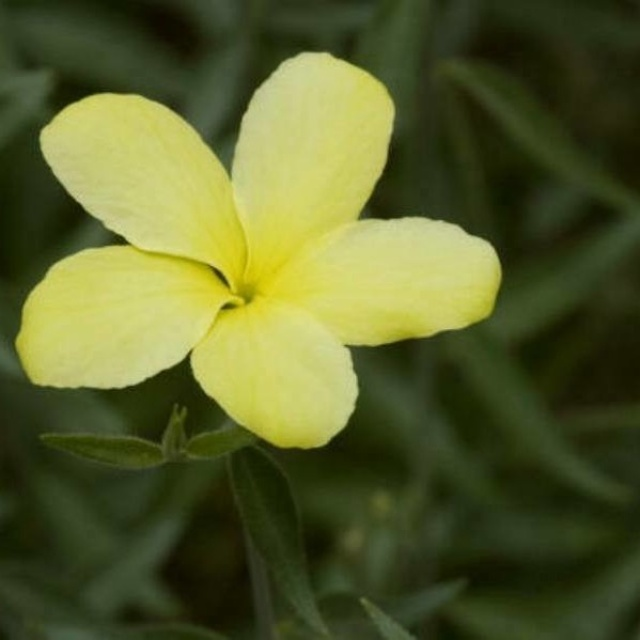obstacle: (22, 48, 518, 481)
